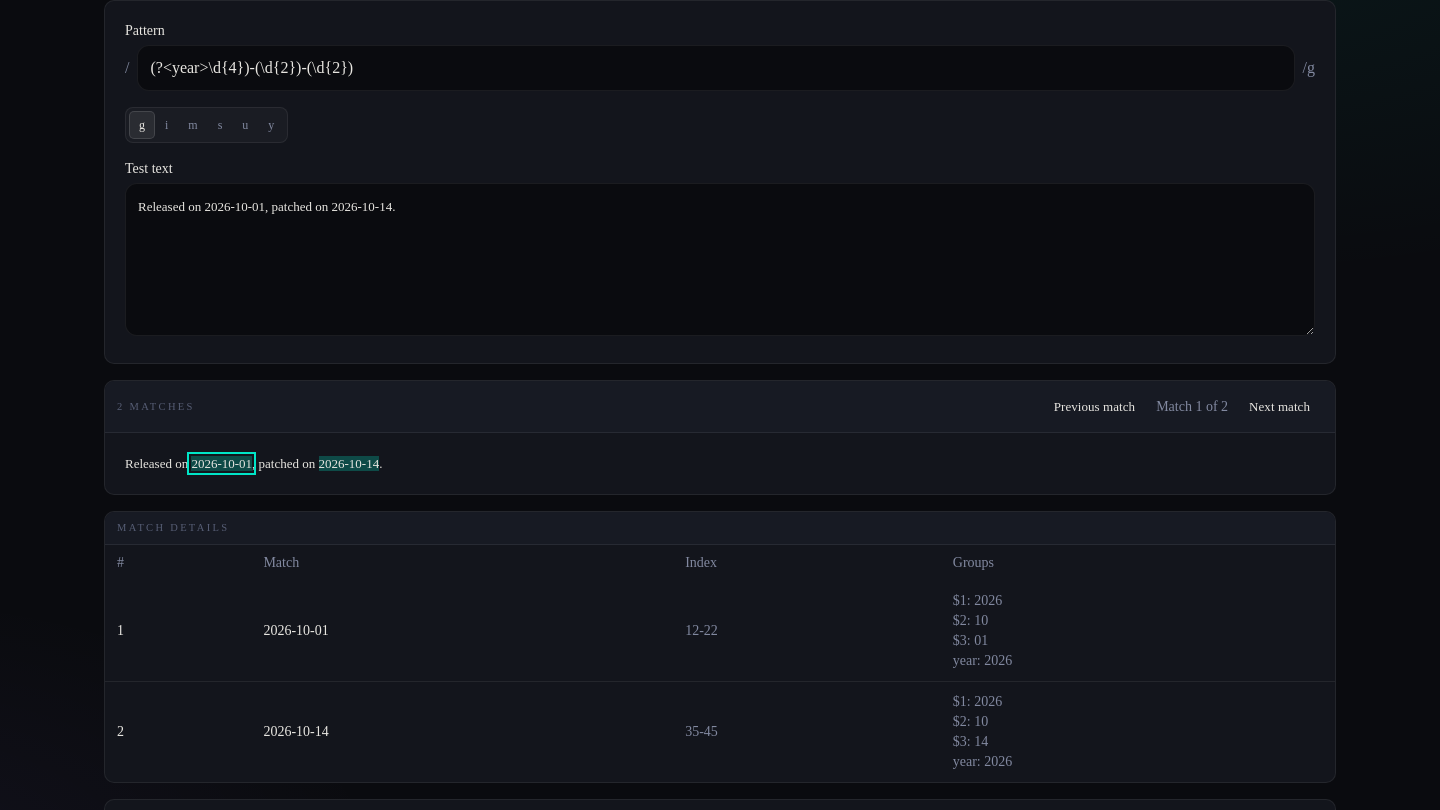
Test: RegexTesterClient match navigation › disables navigation for no matches
Replace the text in the field labelled "Pattern" with "not-present". click: (716, 68)
box: [138, 45, 1295, 91]
Wait 150 ms
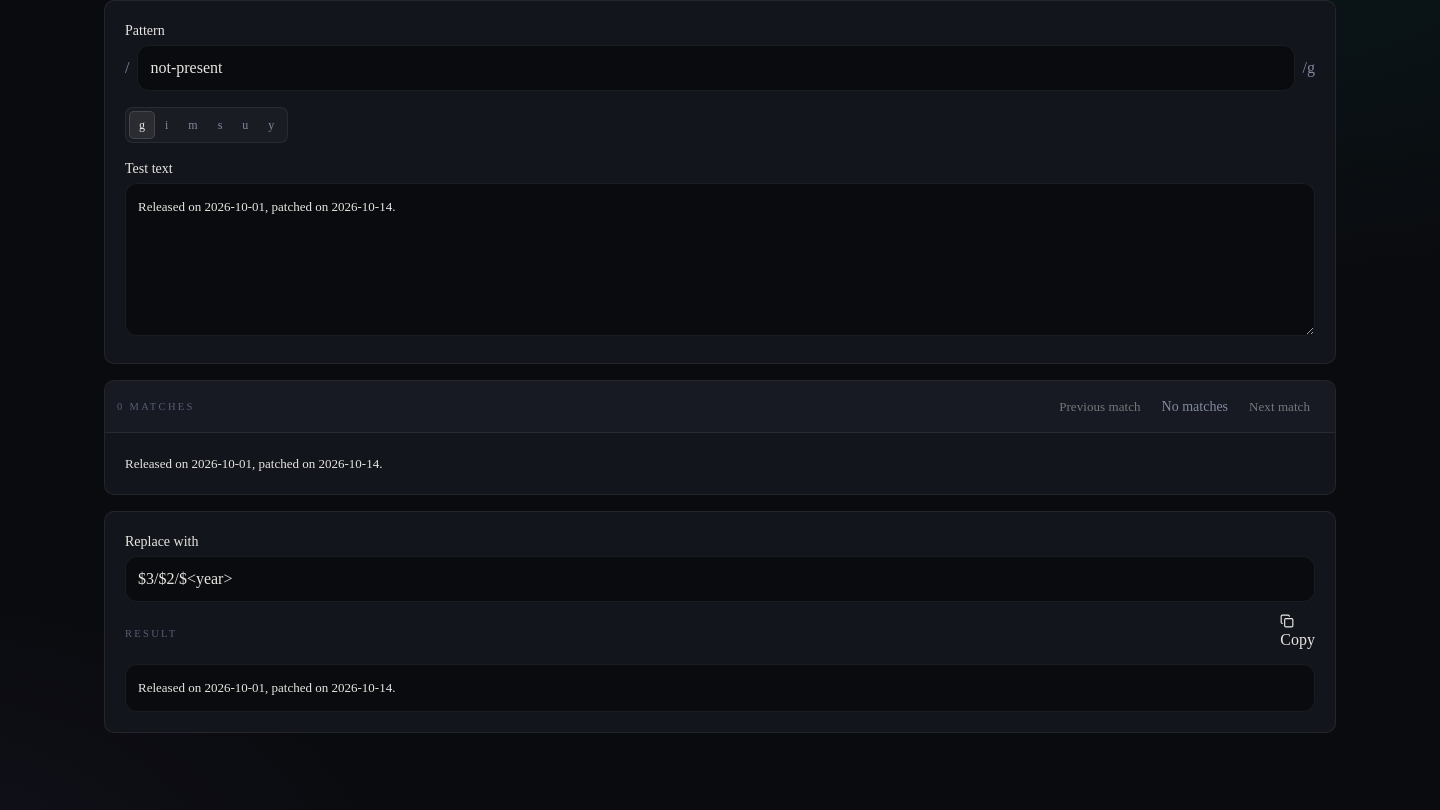
Check: the button "Previous match" is disabled, box [1046, 389, 1154, 424]
Check: the button "Next match" is disabled, box [1236, 389, 1323, 424]
Check: the message named "Match navigation" reads "No matches", box [1162, 398, 1228, 414]
